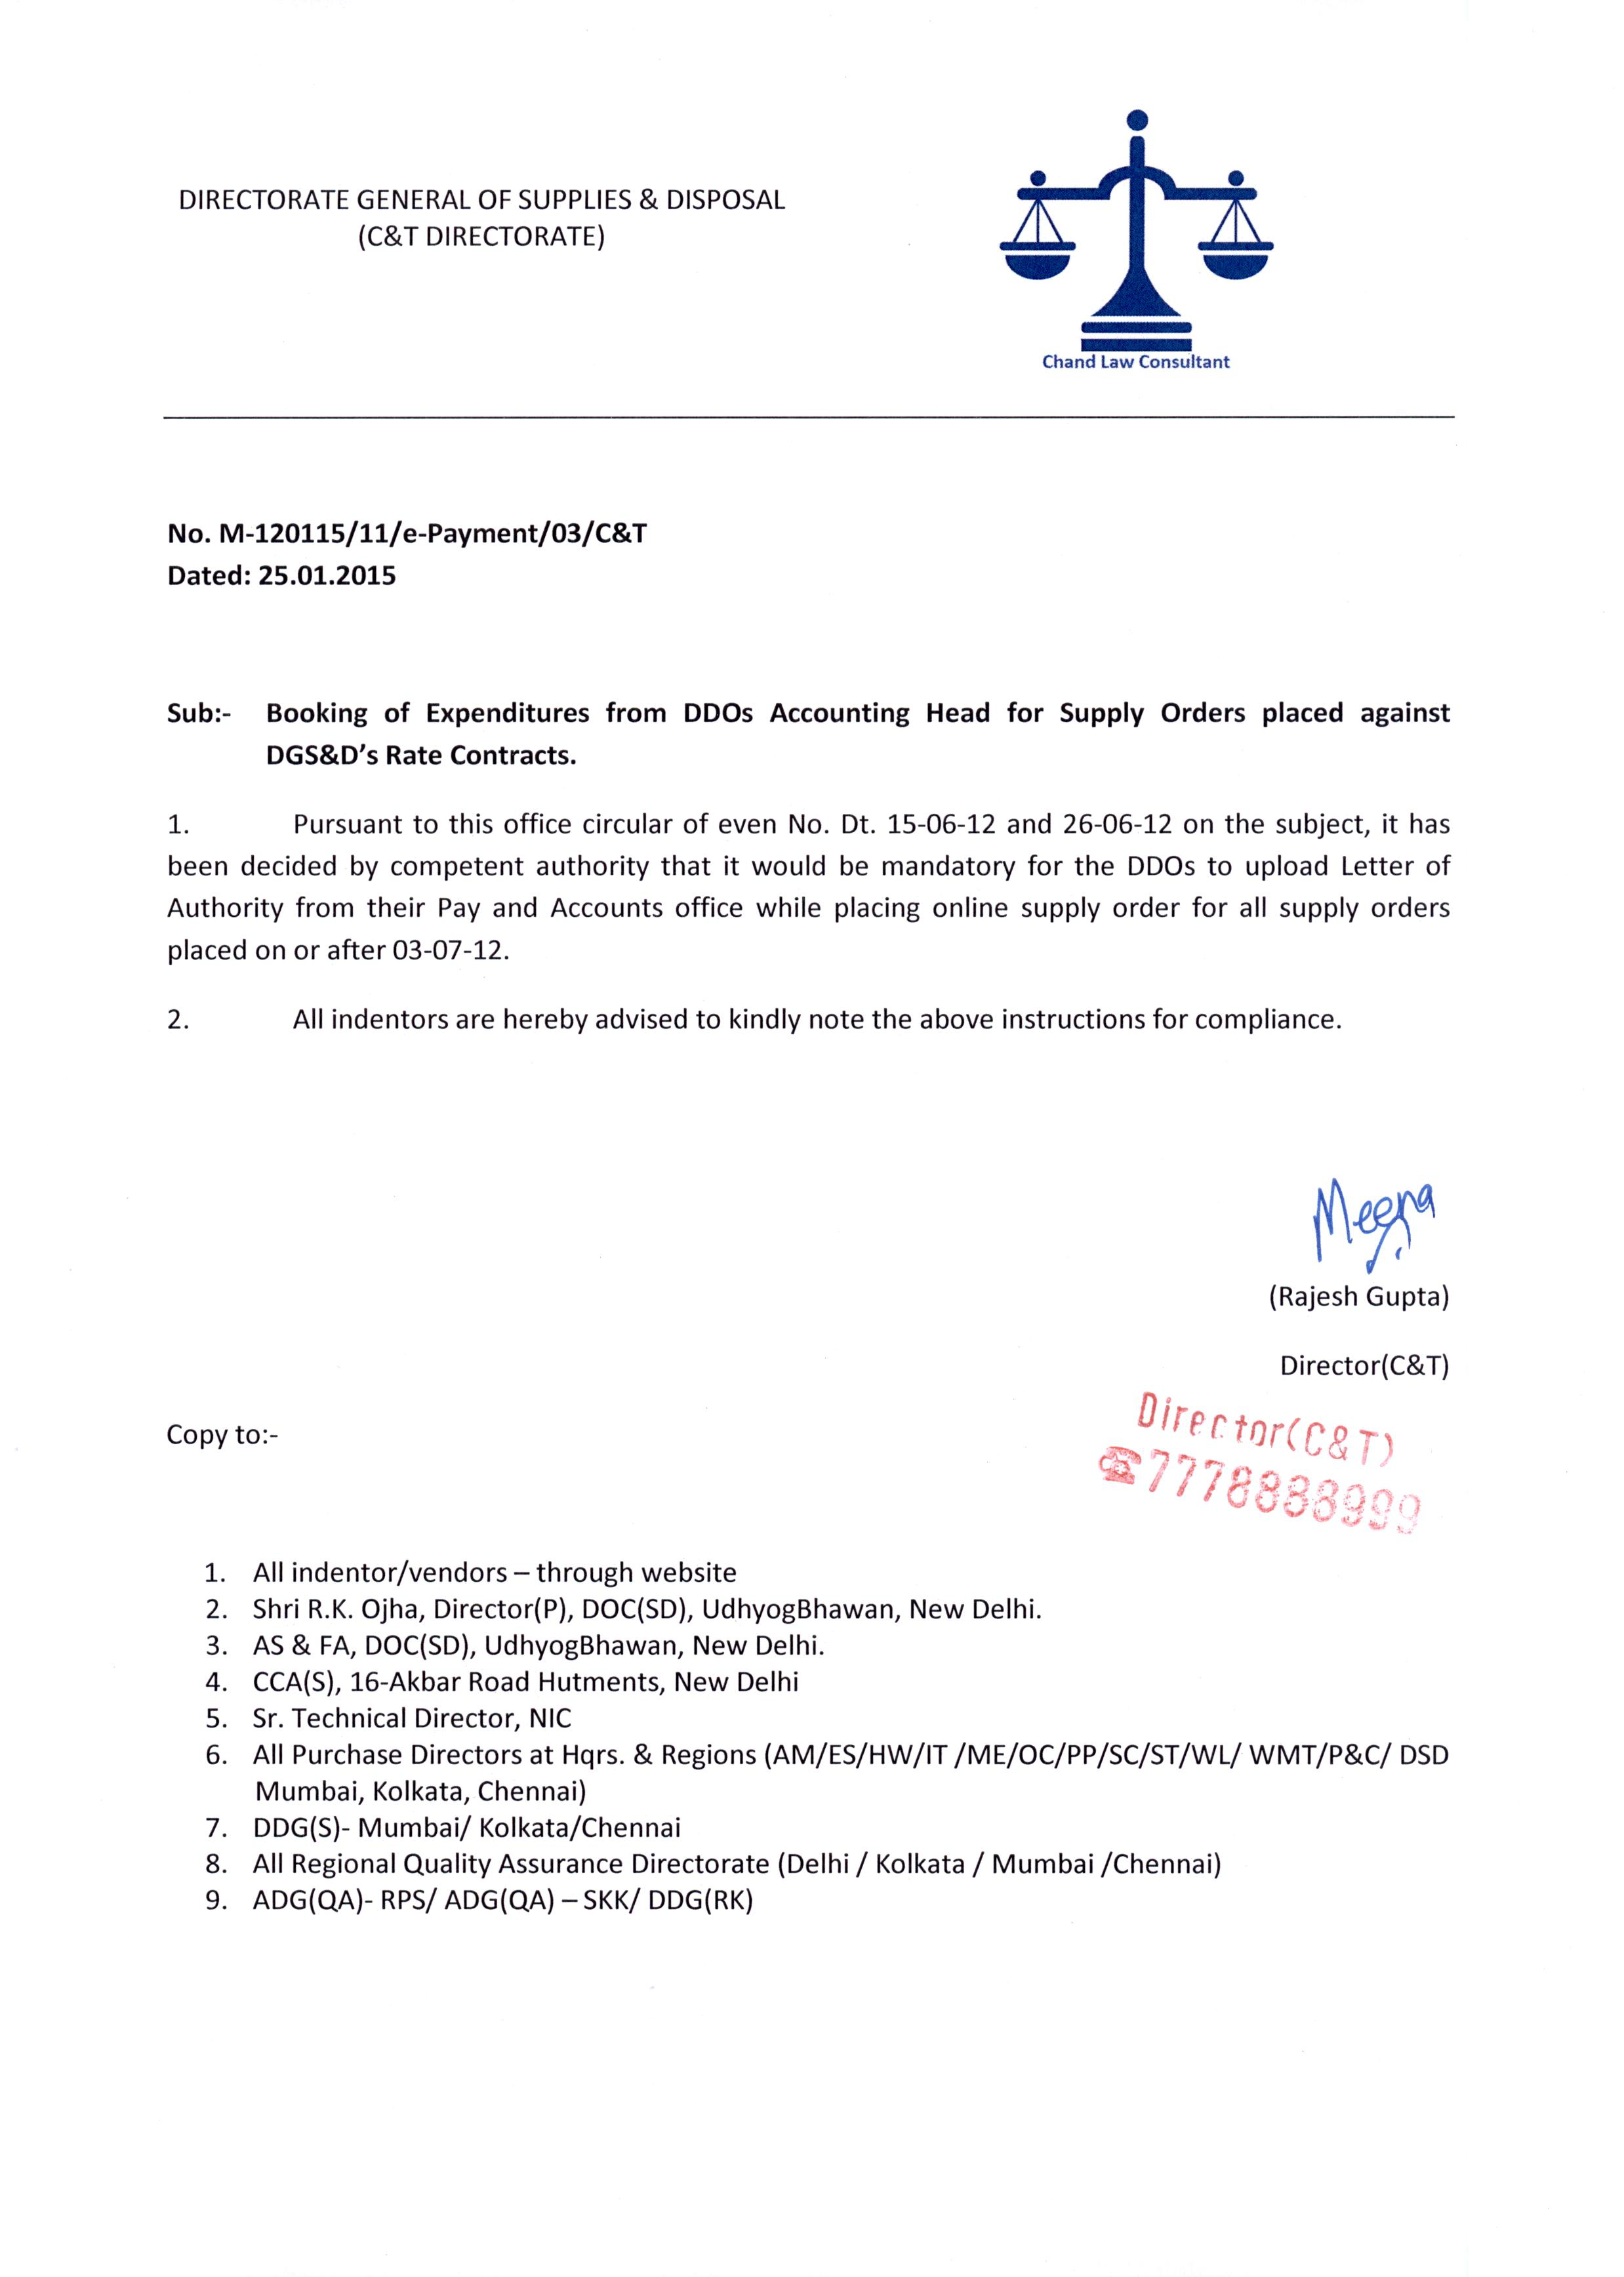Signature: (1308, 1172, 1443, 1274)
